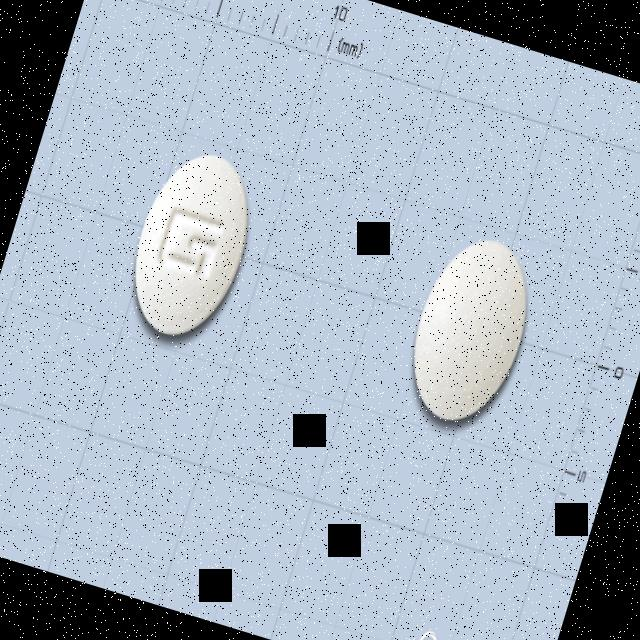Lefexin: (114, 140, 269, 348)
